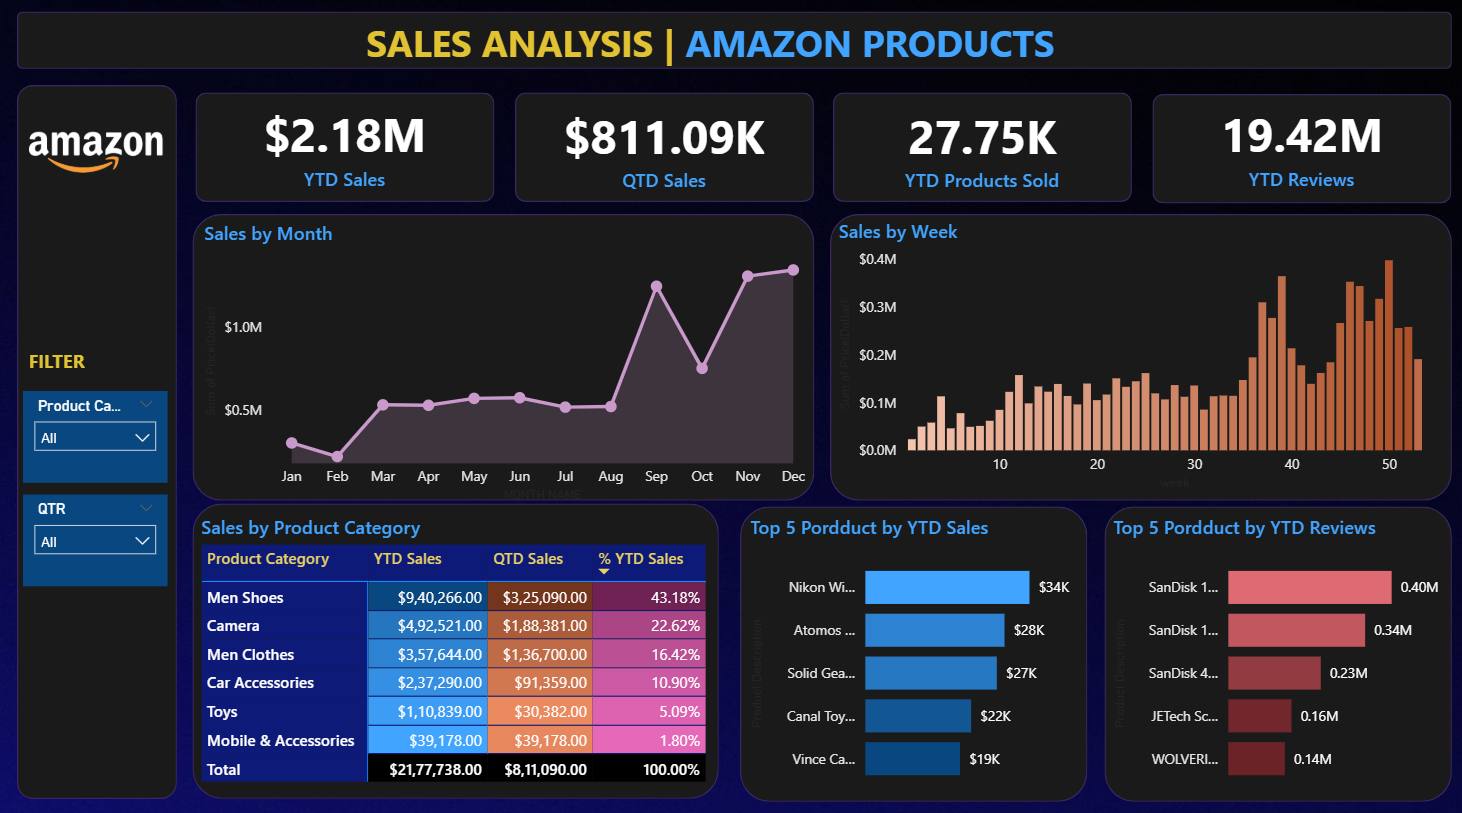

The dashboard page shown, as its layout file describes it:
{"tool":"powerbi","page":{"name":"Page 1","canvas":[1280,720],"ordinal":0},"visuals":[{"type":"shape","box":[15.1,12.1,1250.7,50],"z":0},{"type":"textbox","box":[315,12.1,649.6,56],"z":1000},{"type":"shape","box":[15.1,75.7,139.3,622.3],"z":2000},{"type":"shape","box":[171.1,81.8,260.4,95.4],"z":3000},{"type":"cardVisual","fields":{"Data":["Amazon_Data.YTD"]},"box":[171.1,75.7,260.4,107.5],"z":4000},{"type":"shape","box":[449.2,81.8,260.4,95.4],"z":5000},{"type":"cardVisual","fields":{"Data":["Amazon_Data.QTD"]},"box":[449.2,77.2,260.4,107.5],"z":6000},{"type":"shape","box":[727.3,81.8,260.4,95.4],"z":7000},{"type":"cardVisual","fields":{"Data":["Amazon_Data.YTD Products Sold"]},"box":[727.3,77.2,260.4,107.5],"z":8000},{"type":"shape","box":[1005.4,83.3,260.4,95.4],"z":9000},{"type":"cardVisual","fields":{"Data":["Amazon_Data.YTD Reviews"]},"box":[1005.4,75.7,260.4,107.5],"z":10000},{"type":"shape","box":[168.1,187.8,542.1,249.8],"z":11000},{"type":"areaChart","title":"Sales by Month","fields":{"Category":["Data Table.MONTH NAME"],"Y":["Sum(Amazon_Data.Price(Dollar))"]},"box":[174.1,193.8,539.1,249.8],"z":12000},{"type":"shape","box":[723.8,187.8,542.1,249.8],"z":13000},{"type":"columnChart","title":"Sales by Week","fields":{"Category":["Data Table.week"],"Y":["Sum(Amazon_Data.Price(Dollar))"]},"box":[726.8,192.3,539.1,240.8],"z":14000},{"type":"shape","box":[168.1,440.6,458.8,257.4],"z":15000},{"type":"pivotTable","title":"Sales by Product Category","fields":{"Rows":["Amazon_Data.Product Category"],"Values":["Amazon_Data.YTD Sales1","Amazon_Data.QTD Sales","Amazon_Data.YTD Sales"]},"box":[171.1,449.7,454.3,240.8],"z":16000},{"type":"shape","box":[646.6,443.7,302.8,257.4],"z":17000},{"type":"shape","box":[963,443.7,302.8,257.4],"z":18000},{"type":"clusteredBarChart","title":"Top 5 Pordduct by YTD Sales","fields":{"Category":["Amazon_Data.Product Description"],"Y":["Amazon_Data.YTD Sales"]},"box":[649.6,449.7,298.3,248.3],"z":19000},{"type":"clusteredBarChart","title":"Top 5 Pordduct by YTD Reviews","fields":{"Category":["Amazon_Data.Product Description"],"Y":["Amazon_Data.YTD Reviews"]},"box":[966.1,449.7,298.3,248.3],"z":20000},{"type":"slicer","fields":{"Values":["Amazon_Data.Product Category"]},"box":[21.2,342.2,125.7,80.3],"z":21000},{"type":"slicer","fields":{"Values":["Data Table.QTR"]},"box":[21.2,433.1,125.7,80.3],"z":22000},{"type":"textbox","box":[21.2,299.8,92.4,37.9],"z":23000},{"type":"image","box":[25.9,86.3,117.9,103.5],"z":24000}]}

Visuals, with their boxes in screenshot pixels (x1, y1, x2, y2), scaled from the page's 1280x720 canvas onto the 1462x813 screenshot:
shape: <box>17,14,1446,70</box>
textbox: <box>360,14,1102,77</box>
shape: <box>17,85,176,788</box>
shape: <box>195,92,493,200</box>
cardVisual - Amazon_Data.YTD: <box>195,85,493,207</box>
shape: <box>513,92,810,200</box>
cardVisual - Amazon_Data.QTD: <box>513,87,810,209</box>
shape: <box>831,92,1128,200</box>
cardVisual - Amazon_Data.YTD Products Sold: <box>831,87,1128,209</box>
shape: <box>1148,94,1446,202</box>
cardVisual - Amazon_Data.YTD Reviews: <box>1148,85,1446,207</box>
shape: <box>192,212,811,494</box>
"Sales by Month" areaChart: <box>199,219,815,501</box>
shape: <box>827,212,1446,494</box>
"Sales by Week" columnChart: <box>830,217,1446,489</box>
shape: <box>192,498,716,788</box>
"Sales by Product Category" pivotTable: <box>195,508,714,780</box>
shape: <box>739,501,1084,792</box>
shape: <box>1100,501,1446,792</box>
"Top 5 Pordduct by YTD Sales" clusteredBarChart: <box>742,508,1083,788</box>
"Top 5 Pordduct by YTD Reviews" clusteredBarChart: <box>1103,508,1444,788</box>
slicer - Amazon_Data.Product Category: <box>24,386,168,477</box>
slicer - Data Table.QTR: <box>24,489,168,580</box>
textbox: <box>24,339,130,381</box>
image: <box>30,97,164,214</box>
